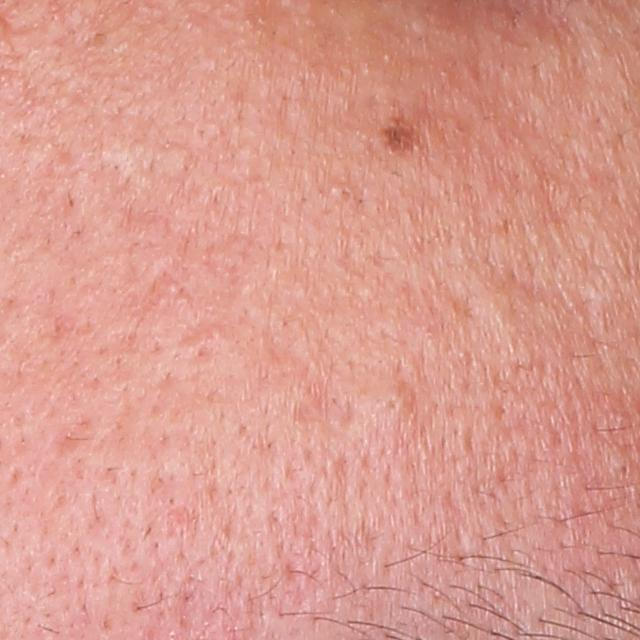comedo: (379, 393, 408, 415), (333, 183, 356, 203)
nevus: (375, 112, 427, 161)
